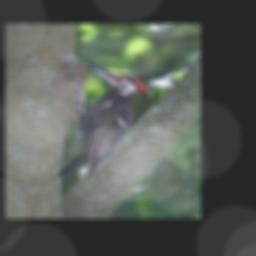Woodpecker: (57, 63, 151, 182)
